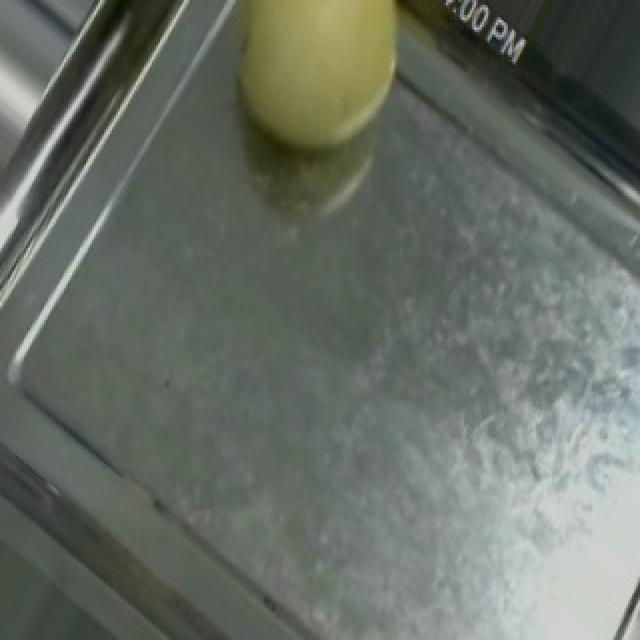Fruit: (194, 0, 448, 186)
